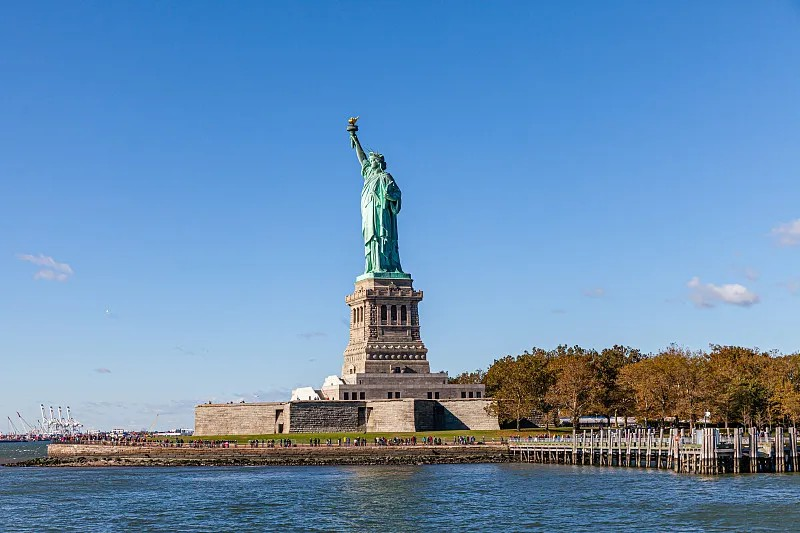SL: (341, 115, 431, 374)
